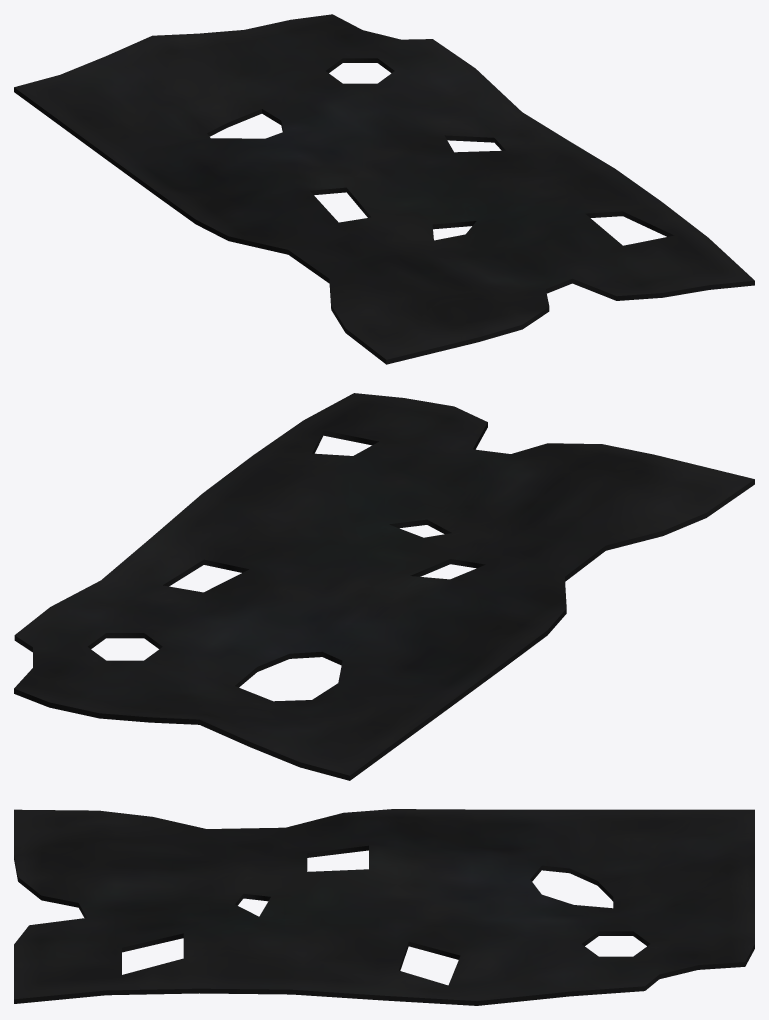
File: metal_sheet_holes.obj
3 views of the same model, one above another, from view 1: azimuth 30°, elevation 25°; view 2: azimuth 150°, elevation 25°; view 3: azimuth 270°, elevation 25° (orthographic). The views are drawn at different scales.
Parts seen in each view (by area): view 1: metal_sheet_holes__EXPORT_TEMP; view 2: metal_sheet_holes__EXPORT_TEMP; view 3: metal_sheet_holes__EXPORT_TEMP.
Part boxes in pixels (x1=…): metal_sheet_holes__EXPORT_TEMP: x1=14, y1=14, x2=754, y2=364; metal_sheet_holes__EXPORT_TEMP: x1=14, y1=393, x2=754, y2=780; metal_sheet_holes__EXPORT_TEMP: x1=14, y1=809, x2=754, y2=1005.
Size of the model in its own units: 1.2 by 0.1273 by 2.1.
